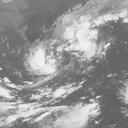cyclone: (23, 42, 61, 76)
